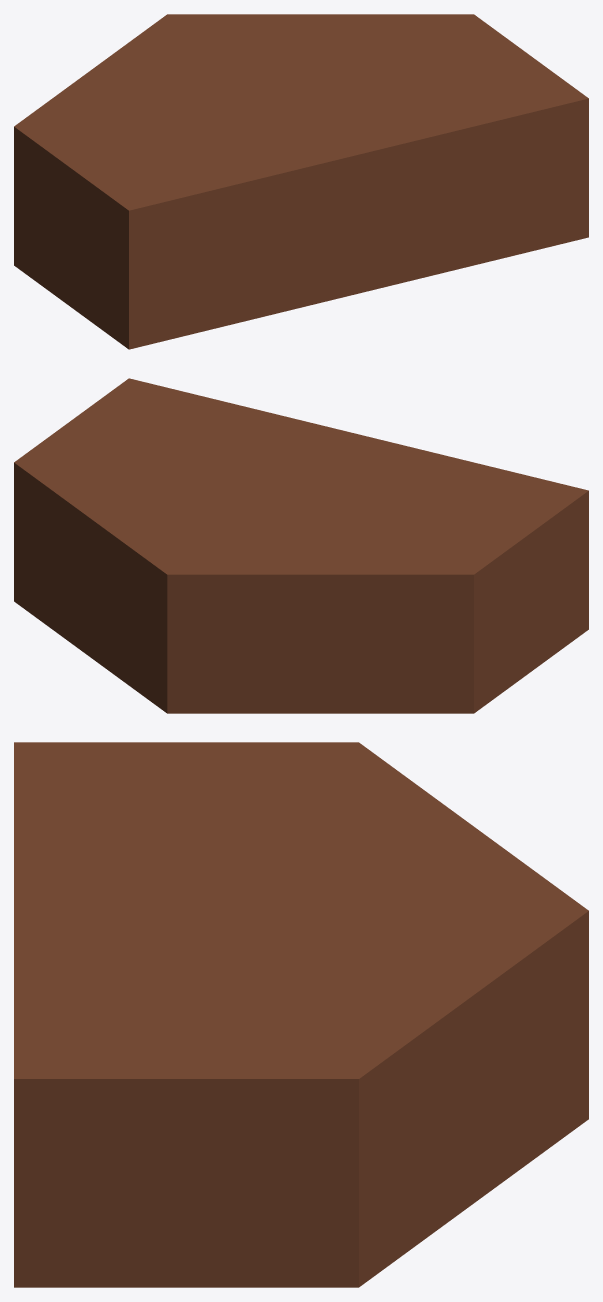
Rendered from _wooden_wall_3.glb.
3 views of the same model, one above another, from view 1: azimuth 30°, elevation 25°; view 2: azimuth 150°, elevation 25°; view 3: azimuth 270°, elevation 25° (orthographic). The views are drawn at different scales.
Visible parts, largest first — view 1: WoodenWallHalfFill; view 2: WoodenWallHalfFill; view 3: WoodenWallHalfFill.
Boxes of the visible parts, x1,y1,x2,y2 form: WoodenWallHalfFill: (14, 14, 588, 349); WoodenWallHalfFill: (14, 378, 588, 713); WoodenWallHalfFill: (14, 742, 588, 1287).
Bounding box in the file's own units: 1.73 × 0.5 × 1.25.
Materials: 1 (1 with a texture image).
